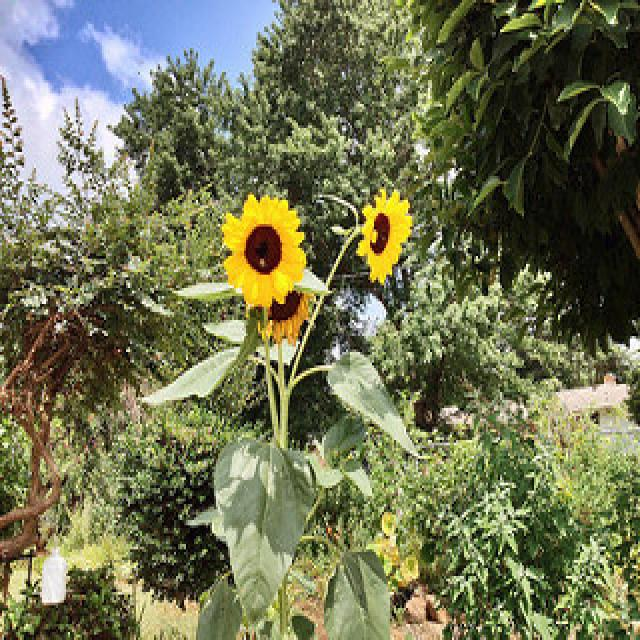sunflower: (216, 191, 304, 305), (349, 184, 417, 285), (256, 273, 310, 351)
